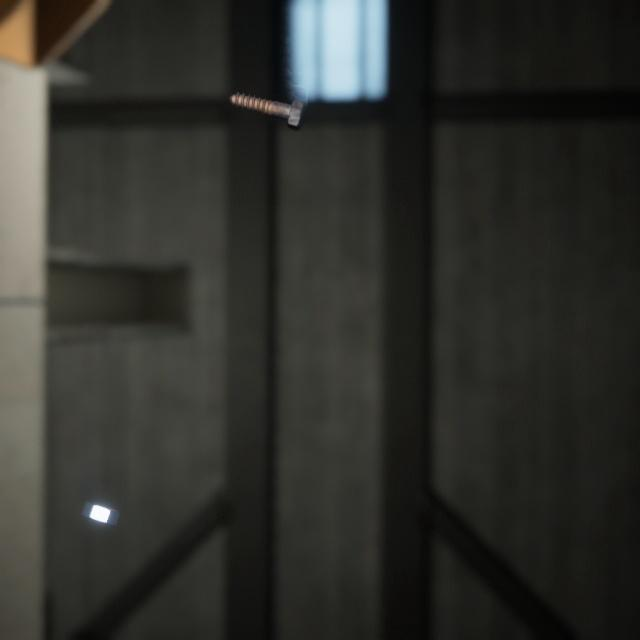bolt: (224, 75, 310, 121)
nut: (77, 475, 123, 508)
